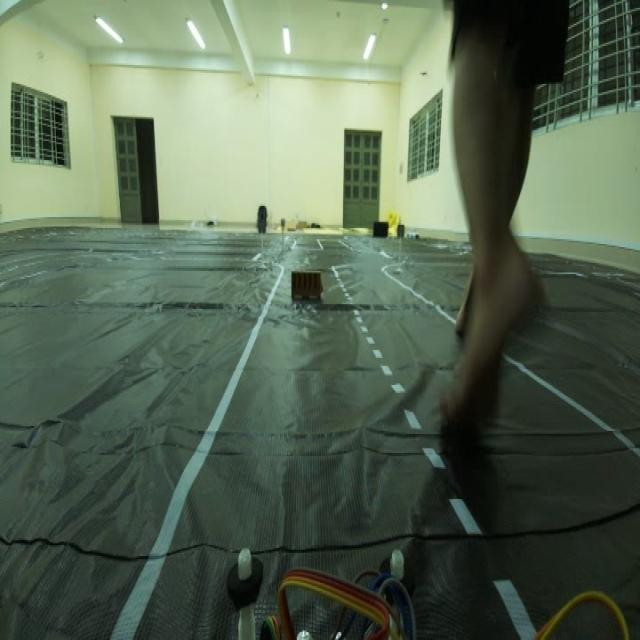roadblock: (289, 257, 326, 309)
